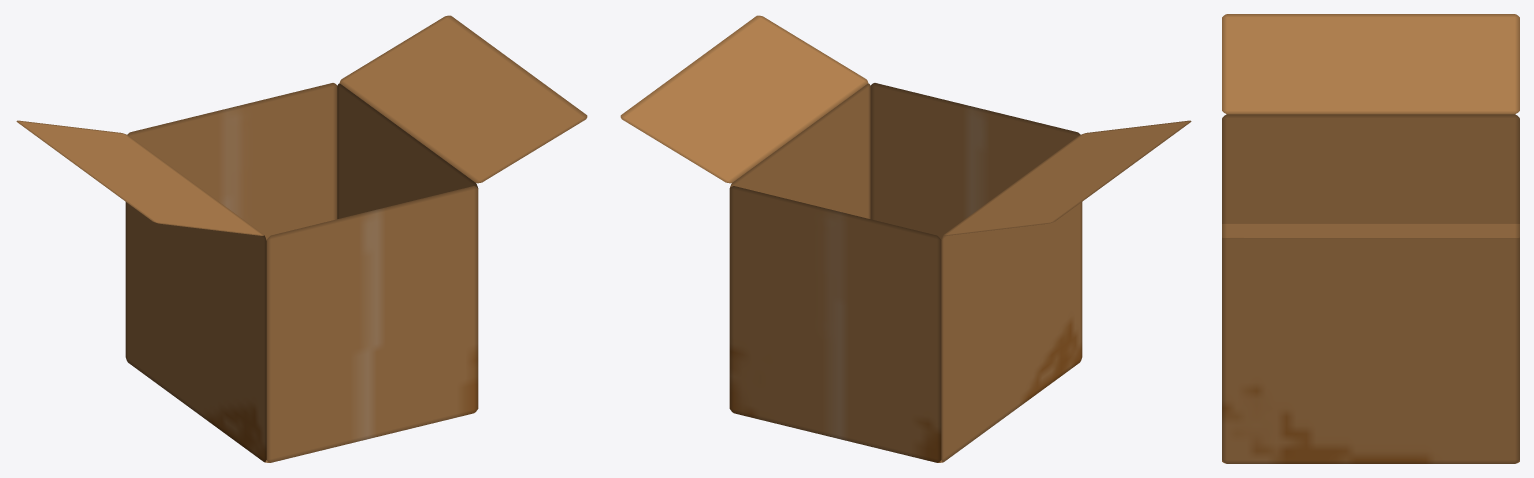
File: opened_box.obj
3 views of the same model, side by side, from view 1: azimuth 30°, elevation 25°; view 2: azimuth 150°, elevation 25°; view 3: azimuth 270°, elevation 25° (orthographic). The views are drawn at different scales.
Parts seen in each view (by area): view 1: cuboid; view 2: cuboid; view 3: cuboid.
Boxes of the visible parts, x1,y1,x2,y2 form: cuboid: (16,15,587,462); cuboid: (620,15,1191,462); cuboid: (1222,14,1519,463).
Bounding box in the file's own units: 2.28 × 1.34 × 1.28.
1 material, 1 textured.
